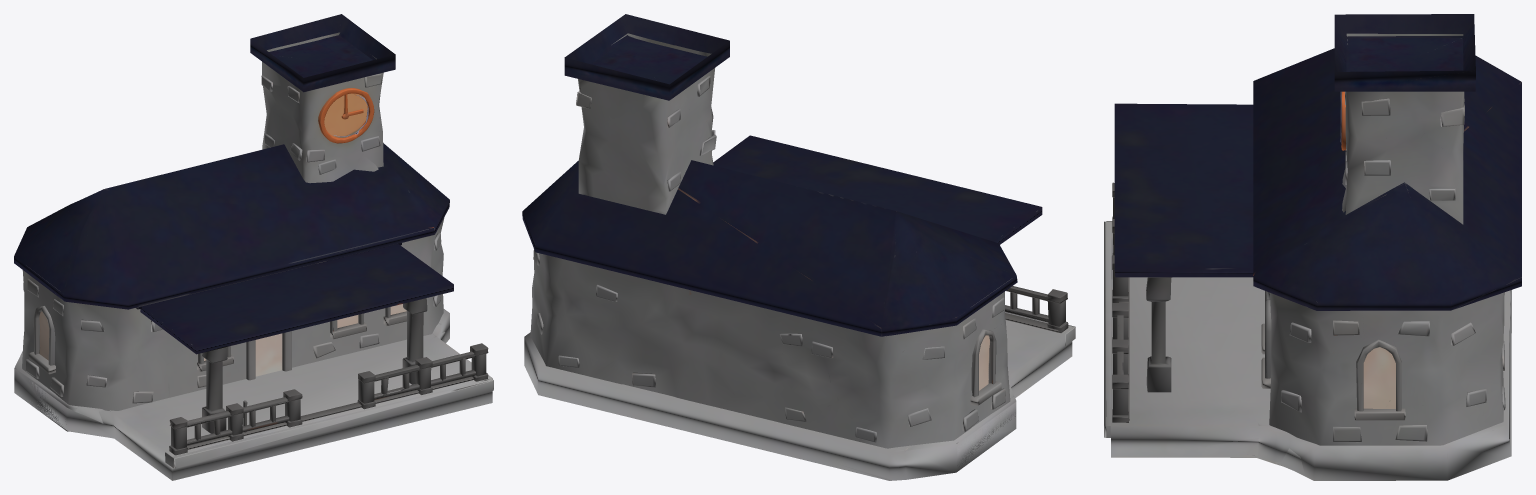
The model's file is 36-train-station.glb.
3 views of the same model, side by side, from view 1: azimuth 30°, elevation 25°; view 2: azimuth 150°, elevation 25°; view 3: azimuth 270°, elevation 25° (orthographic). The views are drawn at different scales.
Parts seen in each view (by area): view 1: geometry_0; view 2: geometry_0; view 3: geometry_0.
Boxes of the visible parts, x1,y1,x2,y2 form: geometry_0: [14, 14, 493, 480]; geometry_0: [522, 14, 1075, 480]; geometry_0: [1104, 14, 1521, 480].
Bounding box in the file's own units: 0.957 × 0.6841 × 0.6802.
Materials: 1 (1 with a texture image).
